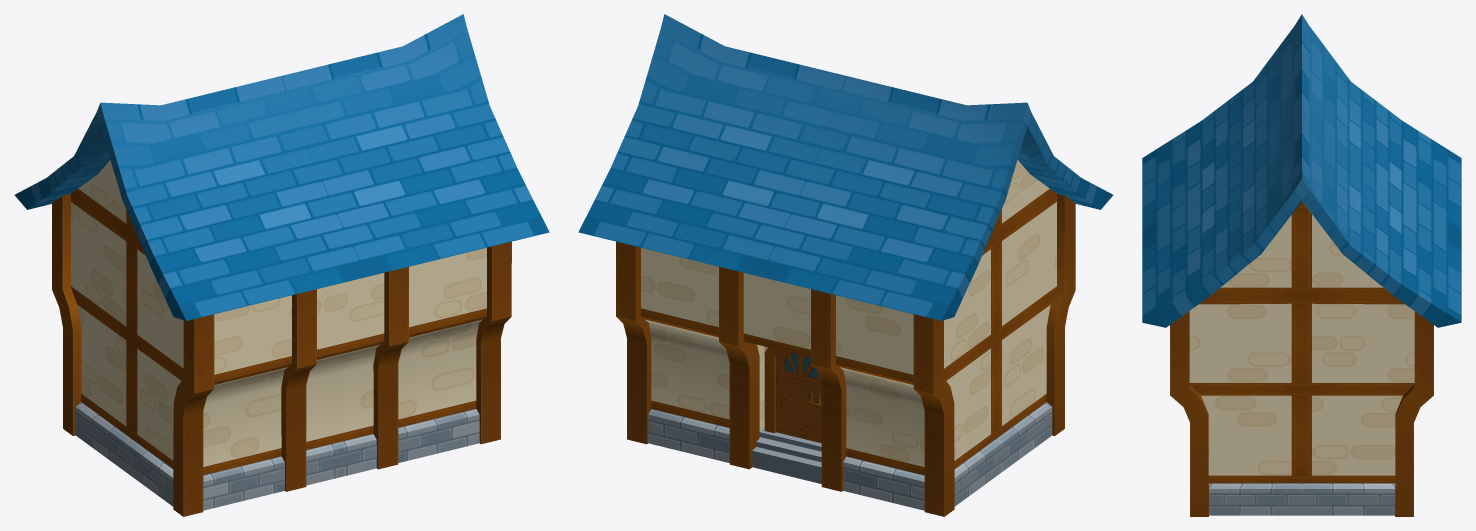
The model's file is HOS0210006.fbx.
3 views of the same model, side by side, from view 1: azimuth 30°, elevation 25°; view 2: azimuth 150°, elevation 25°; view 3: azimuth 270°, elevation 25° (orthographic). The views are drawn at different scales.
Parts seen in each view (by area): view 1: smHOS0210006; view 2: smHOS0210006; view 3: smHOS0210006.
Part boxes in pixels (left/top/right/bottom): smHOS0210006: left=14, top=14, right=549, bottom=516; smHOS0210006: left=578, top=14, right=1113, bottom=516; smHOS0210006: left=1142, top=14, right=1461, bottom=516.
Size of the model in its own units: 849 by 840 by 697.
1 material, 1 textured.
